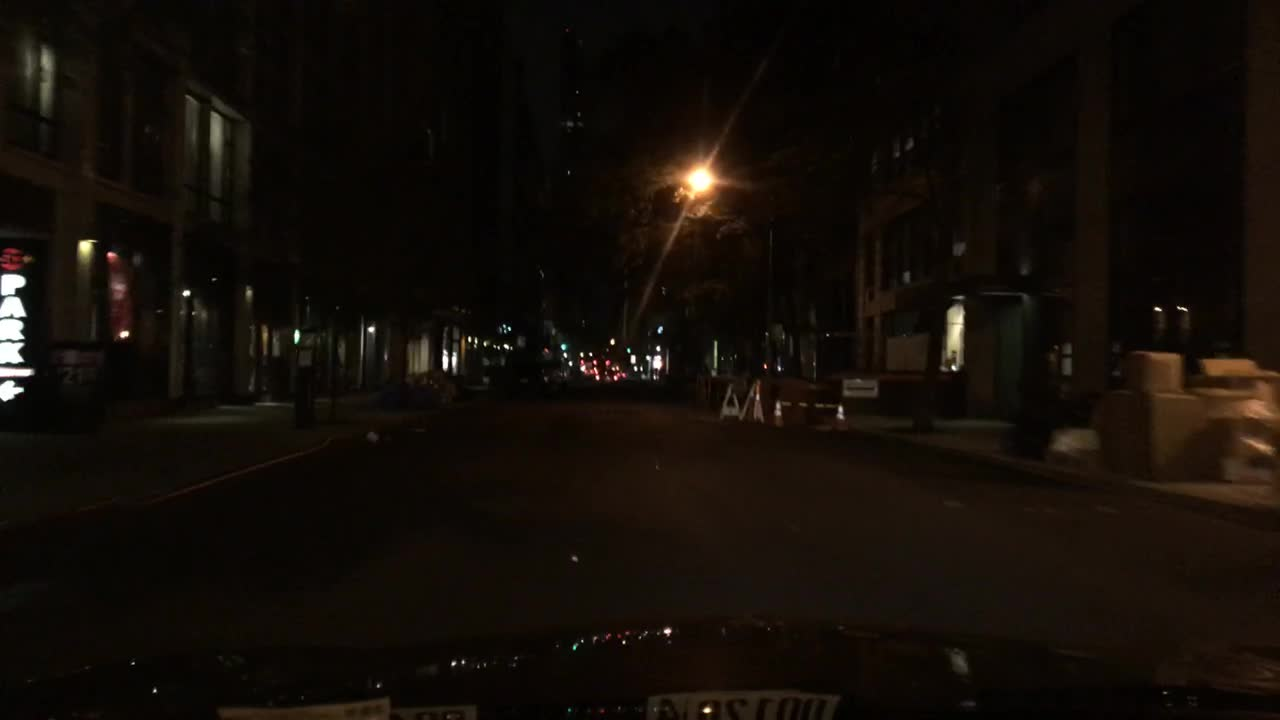car: (486, 360, 552, 402), (592, 367, 618, 385), (553, 362, 572, 385), (576, 360, 596, 377), (614, 369, 622, 377)
traffic light: (559, 340, 567, 350), (626, 346, 631, 354)
